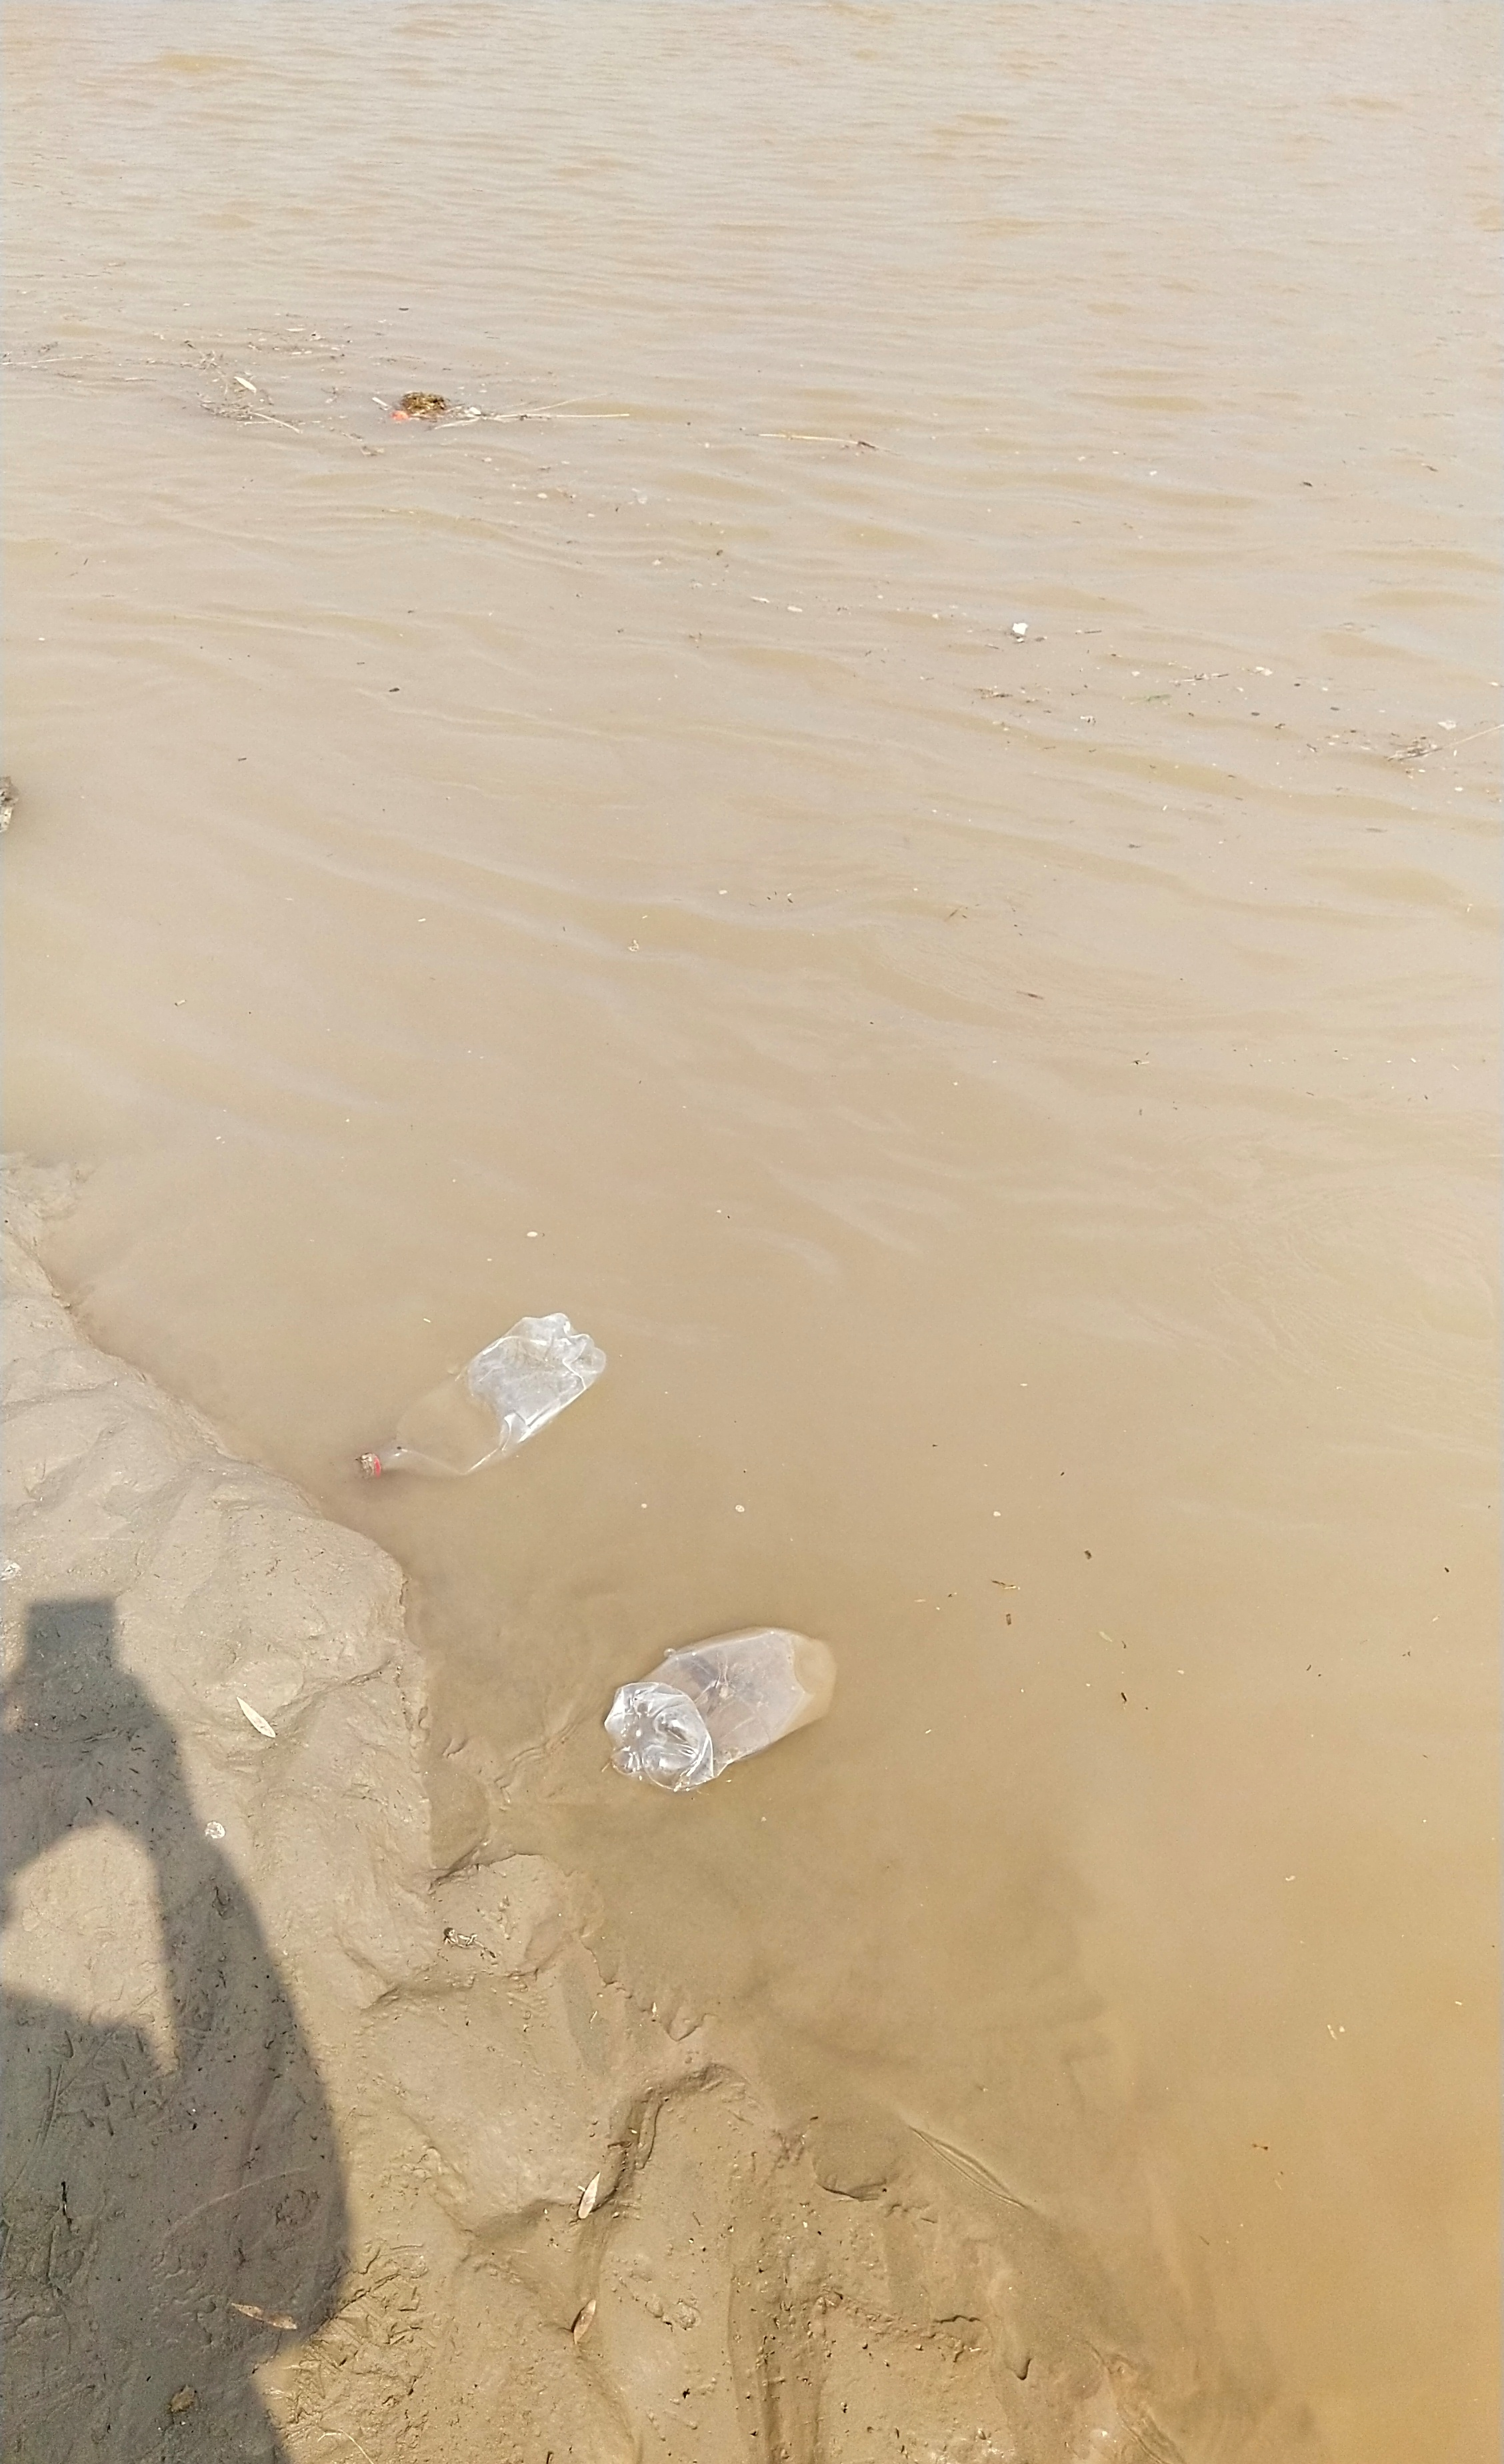Plastic Bottle: (362, 1311, 605, 1480), (605, 1623, 834, 1790)
